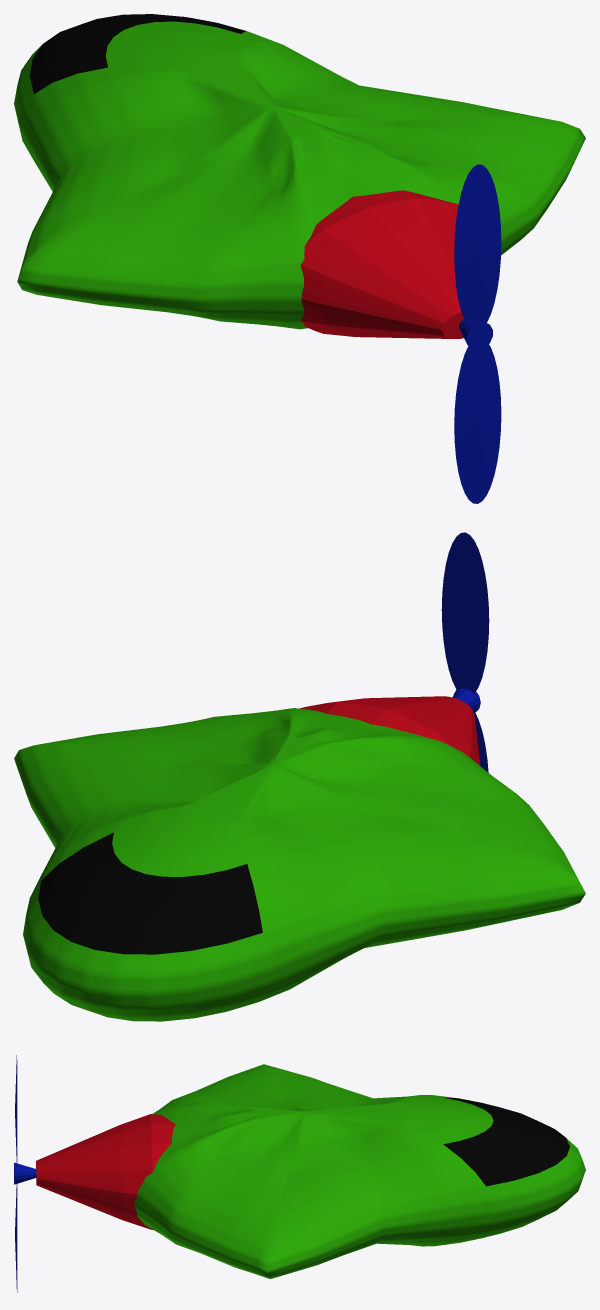
The model's file is GREEN  FASE 2.fbx.
3 renders of one model, top to bottom at view 1: azimuth 30°, elevation 25°; view 2: azimuth 150°, elevation 25°; view 3: azimuth 270°, elevation 25°, orthographic. The views are drawn at different scales.
Parts seen in each view (by area): view 1: GREEN FASE 2; view 2: GREEN FASE 2; view 3: GREEN FASE 2.
Part boxes in pixels (<box>): GREEN FASE 2: <box>14,14,585,503</box>; GREEN FASE 2: <box>14,532,585,1021</box>; GREEN FASE 2: <box>14,1055,585,1292</box>.
Size of the model in its own units: 476 by 224 by 396.
